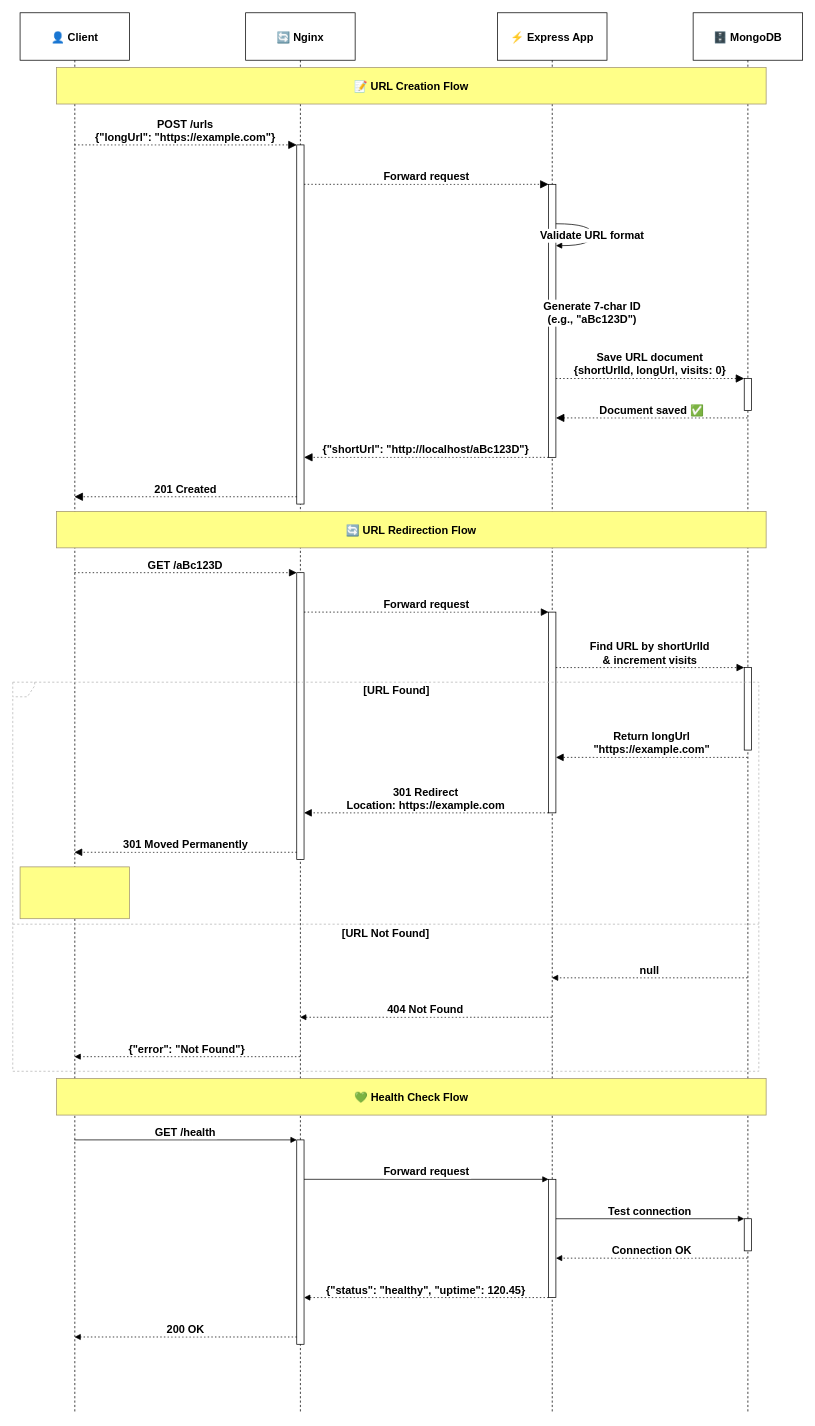
This 815x1426 diagram has some shape labels left out. The box of each missing label's shape, as (x1, y1, x2, y2) in pixels:
alt: (12, 681, 759, 1071)
Browser redirects to original URL: (19, 866, 130, 919)
